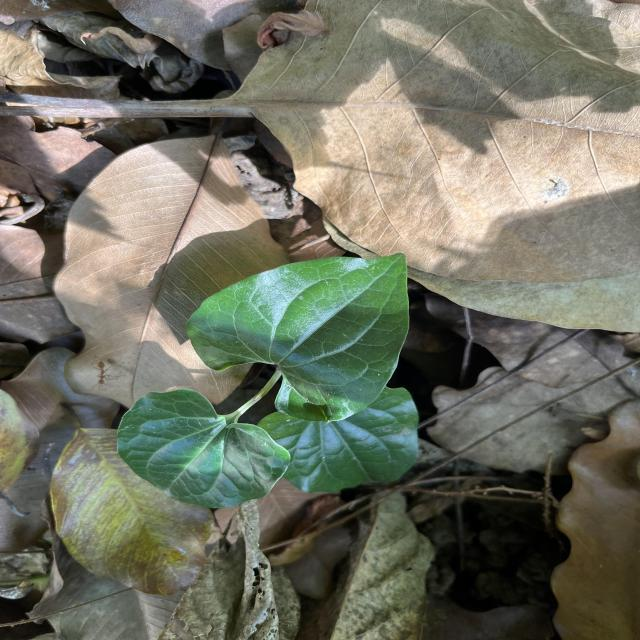Piper longum: (183, 251, 412, 426), (114, 384, 292, 510)
